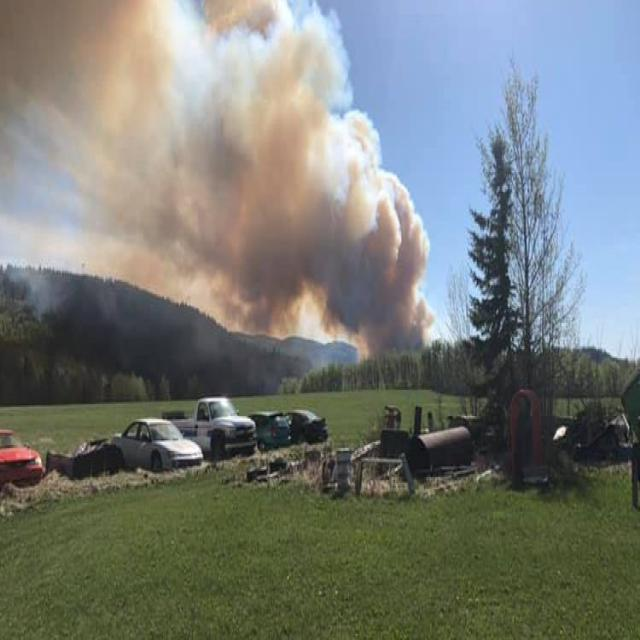Smoke: (12, 9, 439, 348)
